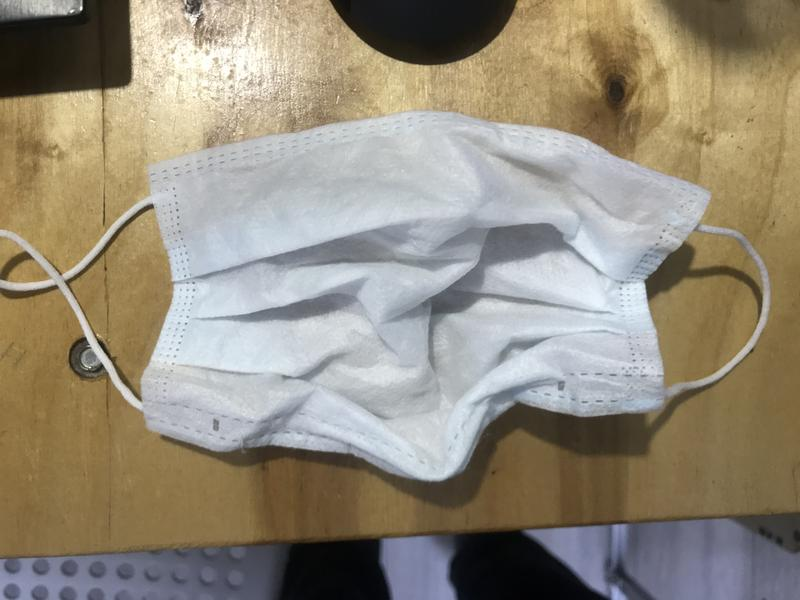medical_mask: (3, 111, 770, 481)
